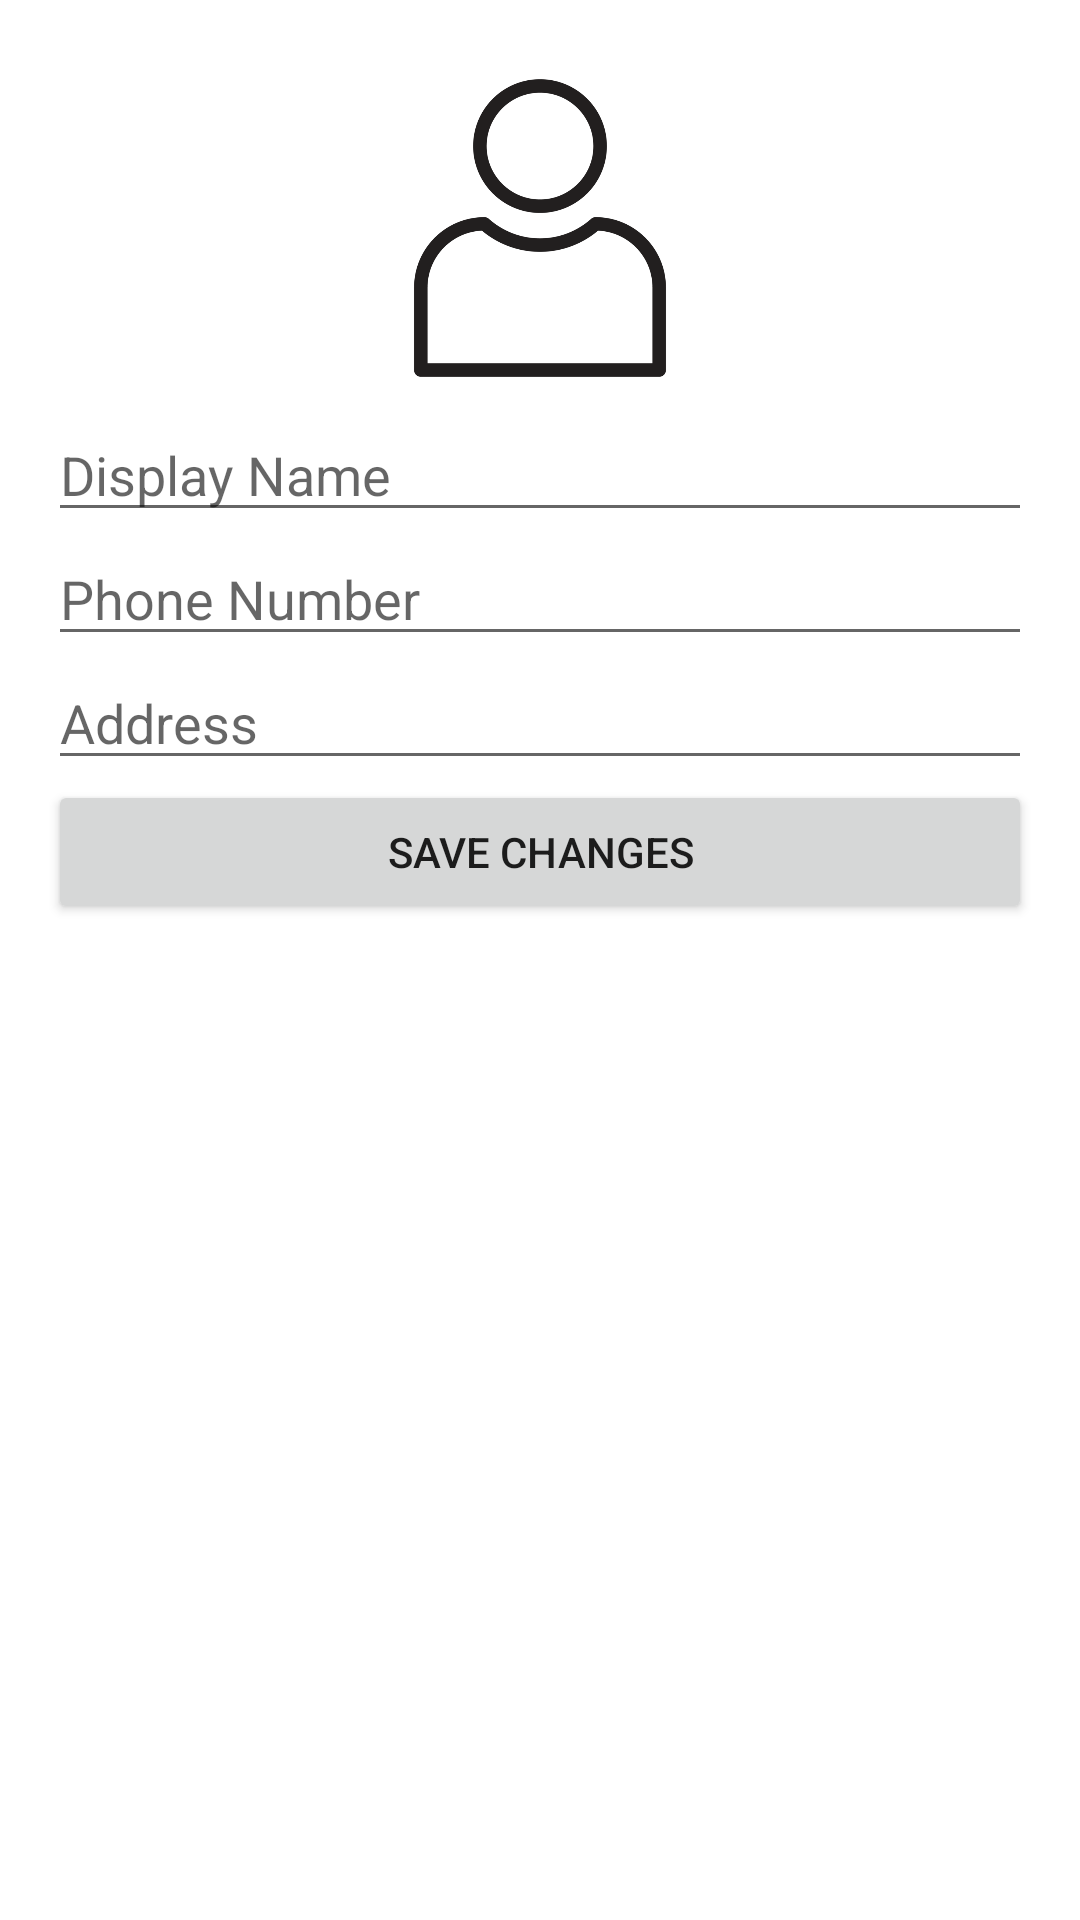

Screen size 1080 × 1920. Icon name, then its box in pixels as [left=x1, top=y1, right=x2, bottom=y2]:
profile: [left=414, top=79, right=666, bottom=377]
